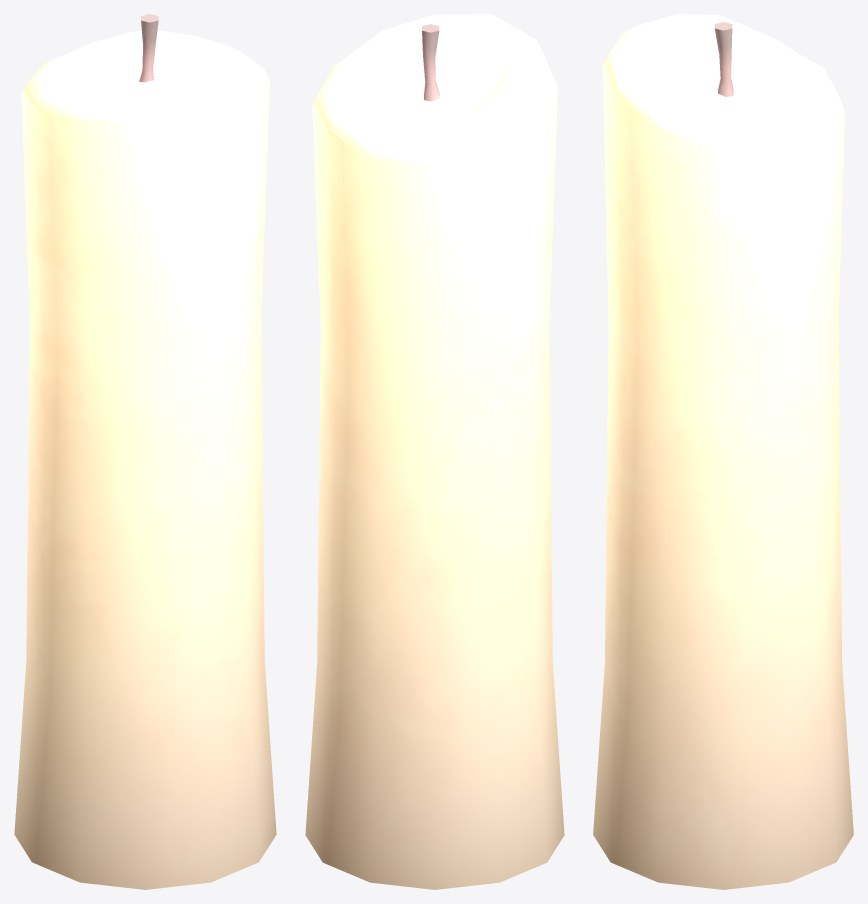
File: SM_Large_Candle.fbx
The picture shows the model from 3 angles, left to right: view 1: azimuth 30°, elevation 25°; view 2: azimuth 150°, elevation 25°; view 3: azimuth 270°, elevation 25°; orthographic projection.
Visible parts, largest first — view 1: SM_Large_Candle_LOD0; view 2: SM_Large_Candle_LOD0; view 3: SM_Large_Candle_LOD0.
Boxes of the visible parts, box(x1,y1,x2,y2) form: SM_Large_Candle_LOD0: box(14, 14, 276, 889); SM_Large_Candle_LOD0: box(305, 14, 564, 889); SM_Large_Candle_LOD0: box(593, 14, 853, 889).
Bounding box in the file's own units: 11.48 × 11.48 × 39.38.
